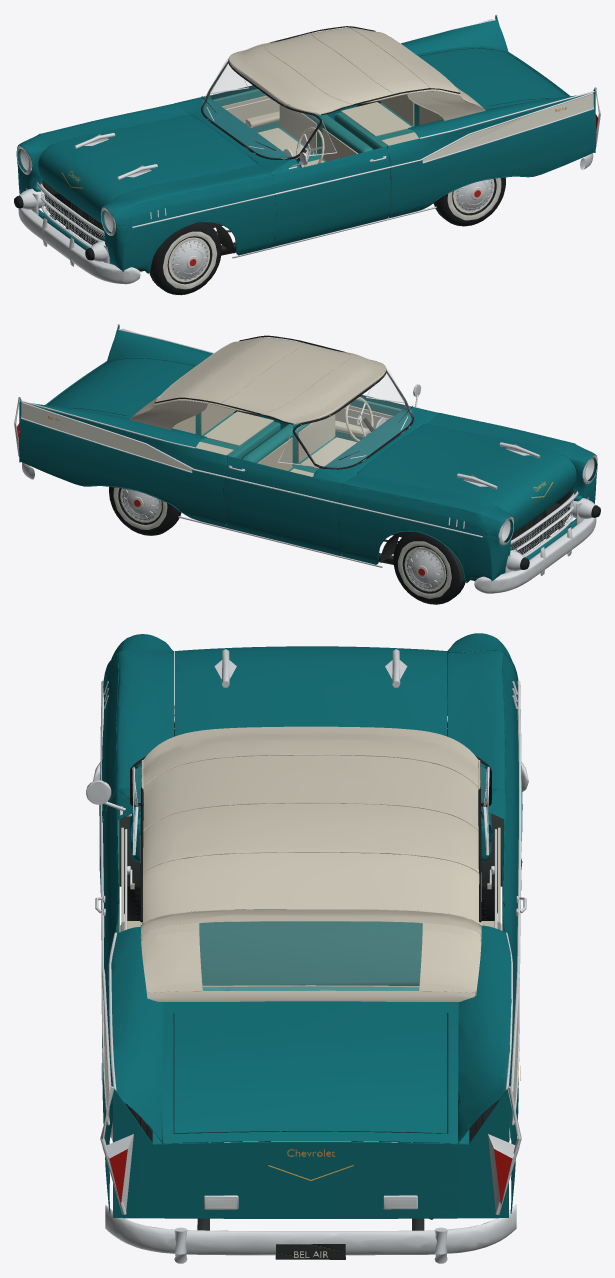
Rendered from belair_1957-lod2.glb.
3 renders of one model, top to bottom at view 1: azimuth 30°, elevation 25°; view 2: azimuth 150°, elevation 25°; view 3: azimuth 270°, elevation 25°, orthographic. The views are drawn at different scales.
Visible parts, largest first — view 1: belair_1957_static_BA57_Paint_Turquoise, belair_1957_static_BA57_StripeAtlas_ConvertibleCanvas, belair_1957_hoodHingeAuthored_<bpy id property array [3]>_BA (×2), belair_1957_static_BA57_Chrome, belair_1957_doorSide_right_BA57_Paint_Turquoise, belair_1957_static_BA57_Upholstery_Ivory, belair_1957_static_BA57_Glass, belair_1957_static_BA57_Upholstery_Turquoise, belair_1957_static_BA57_StripeAtlas_Ivory, belair_1957_wheelId_frontRight_BA57_Rubber, belair_1957_static_BA57_Rubber, belair_1957_wheelId_frontRight_BA57_Chrome (+6 smaller); view 2: belair_1957_static_BA57_Paint_Turquoise, belair_1957_static_BA57_StripeAtlas_ConvertibleCanvas, belair_1957_hoodHingeAuthored_<bpy id property array [3]>_BA (×2), belair_1957_static_BA57_Chrome, belair_1957_doorSide_left_BA57_Paint_Turquoise, belair_1957_static_BA57_Upholstery_Ivory, belair_1957_static_BA57_Glass, belair_1957_static_BA57_Upholstery_Turquoise, belair_1957_static_BA57_StripeAtlas_Ivory, belair_1957_wheelId_frontLeft_BA57_Rubber, belair_1957_static_BA57_Rubber, belair_1957_static_BA57_Grille_Dark (+6 smaller); view 3: belair_1957_static_BA57_Paint_Turquoise, belair_1957_static_BA57_StripeAtlas_ConvertibleCanvas, belair_1957_hoodHingeAuthored_<bpy id property array [3]>_BA (×2), belair_1957_static_BA57_Chrome, belair_1957_static_BA57_Glass, belair_1957_static_BA57_Upholstery_Turquoise, belair_1957_static_BA57_UnderbodyBlackened, belair_1957_doorSide_left_BA57_Paint_Turquoise, belair_1957_doorSide_right_BA57_Paint_Turquoise, belair_1957_static_BA57_Upholstery_Ivory, belair_1957_static_BA57_Rubber, belair_1957_static_BA57_BrakeLens (+1 smaller).
Boxes of the visible parts, x1,y1,x2,y2 form: belair_1957_static_BA57_Paint_Turquoise: (16,15,596,273); belair_1957_static_BA57_StripeAtlas_ConvertibleCanvas: (228,27,485,120); belair_1957_hoodHingeAuthored_<bpy id property array [3]>_BA (×2): (38,114,257,223); belair_1957_static_BA57_Chrome: (17,14,600,284); belair_1957_doorSide_right_BA57_Paint_Turquoise: (272,146,390,246); belair_1957_static_BA57_Upholstery_Ivory: (222,94,442,167); belair_1957_static_BA57_Glass: (23,59,459,226); belair_1957_static_BA57_Upholstery_Turquoise: (213,89,419,165); belair_1957_static_BA57_StripeAtlas_Ivory: (422,94,593,162); belair_1957_wheelId_frontRight_BA57_Rubber: (149,222,221,294); belair_1957_static_BA57_Rubber: (14,26,460,260); belair_1957_wheelId_frontRight_BA57_Chrome: (171,240,208,280); belair_1957_static_BA57_Paint_Turquoise: (19,324,597,582); belair_1957_static_BA57_StripeAtlas_ConvertibleCanvas: (129,337,386,429); belair_1957_hoodHingeAuthored_<bpy id property array [3]>_BA (×2): (357,424,576,532); belair_1957_static_BA57_Chrome: (14,324,597,593); belair_1957_doorSide_left_BA57_Paint_Turquoise: (224,456,342,556); belair_1957_static_BA57_Upholstery_Ivory: (172,404,392,476); belair_1957_static_BA57_Glass: (156,368,509,533); belair_1957_static_BA57_Upholstery_Turquoise: (195,399,401,475); belair_1957_static_BA57_StripeAtlas_Ivory: (21,403,192,471); belair_1957_wheelId_frontLeft_BA57_Rubber: (393,532,465,604); belair_1957_static_BA57_Rubber: (154,335,600,569); belair_1957_static_BA57_Grille_Dark: (48,358,571,554); belair_1957_static_BA57_Paint_Turquoise: (99,633,522,1218); belair_1957_static_BA57_StripeAtlas_ConvertibleCanvas: (140,726,481,1001); belair_1957_hoodHingeAuthored_<bpy id property array [3]>_BA (×2): (174,646,447,736); belair_1957_static_BA57_Chrome: (86,651,528,1263); belair_1957_static_BA57_Glass: (88,767,486,1207); belair_1957_static_BA57_Upholstery_Turquoise: (116,818,504,990); belair_1957_static_BA57_UnderbodyBlackened: (107,794,502,1259); belair_1957_doorSide_left_BA57_Paint_Turquoise: (502,792,521,938); belair_1957_doorSide_right_BA57_Paint_Turquoise: (100,791,119,935); belair_1957_static_BA57_Upholstery_Ivory: (120,827,501,987); belair_1957_static_BA57_Rubber: (130,756,491,922); belair_1957_static_BA57_BrakeLens: (109,1149,512,1205).
Bounding box in the file's own units: 2.08 × 0.6157 × 0.79.
16 materials, 1 textured.
